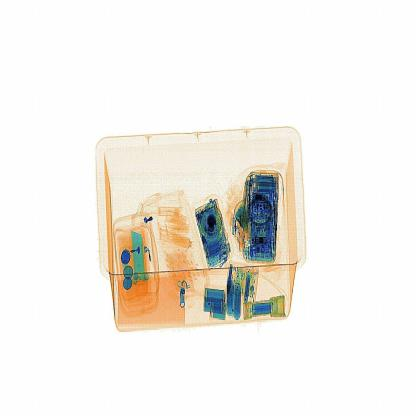pliers: (124, 216, 153, 296)
